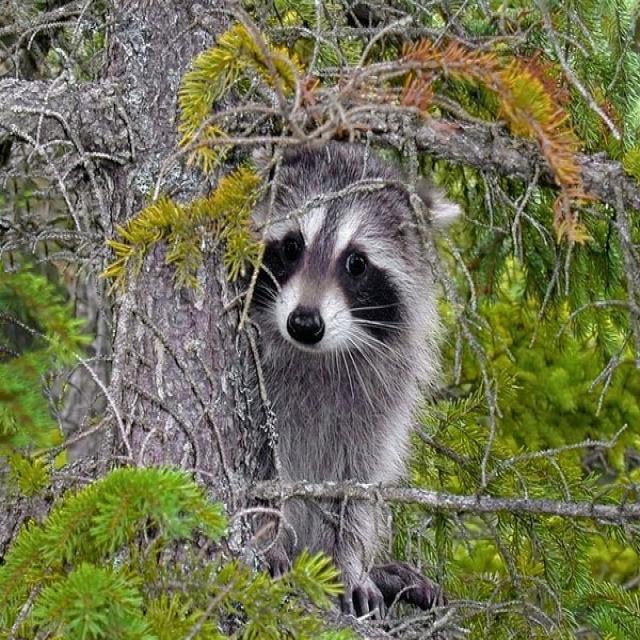Raccoon: (218, 156, 450, 606)
